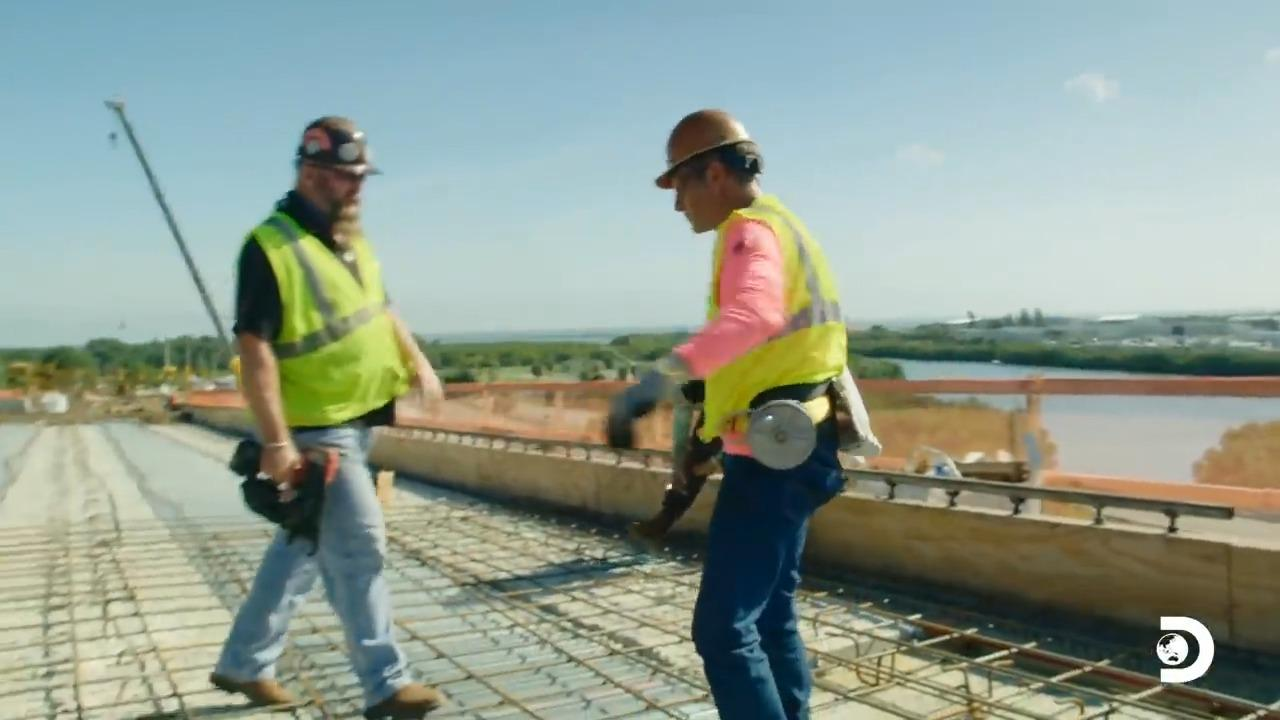Gloves: (602, 385, 664, 452)
Helmet: (648, 104, 760, 222), (295, 115, 382, 176)
Person: (626, 107, 880, 719), (208, 115, 445, 718)
Safety Boot: (209, 661, 288, 709), (363, 682, 431, 718)
Safety Vest: (259, 246, 392, 412), (722, 228, 842, 390)
bare-arms: (245, 434, 307, 488), (396, 353, 445, 401)
